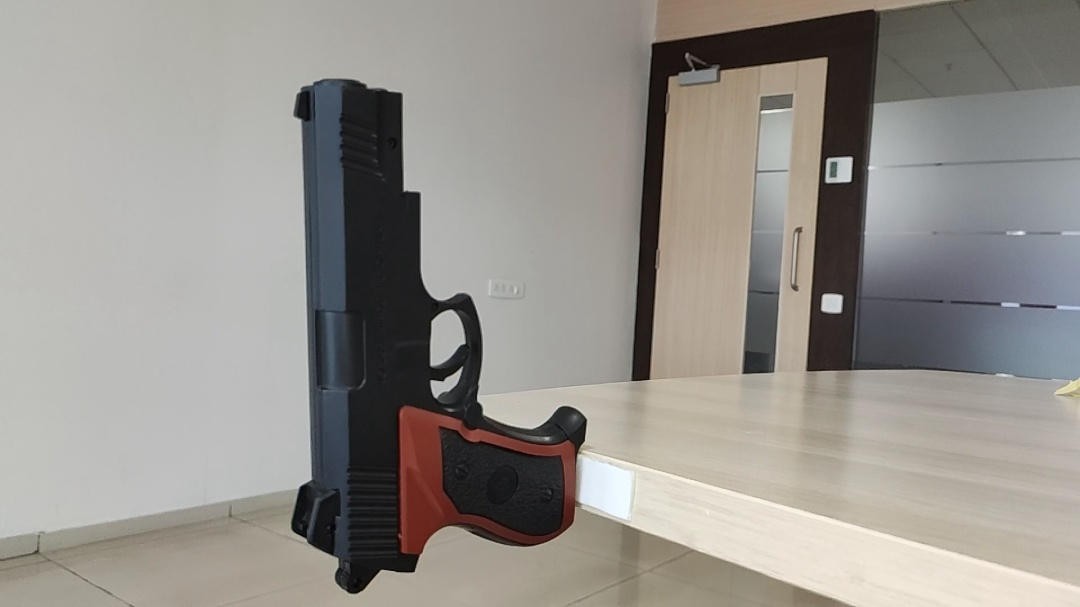gun: (279, 72, 588, 591)
